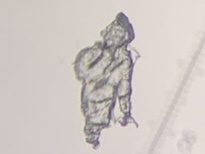microplastic: (70, 10, 143, 151)
